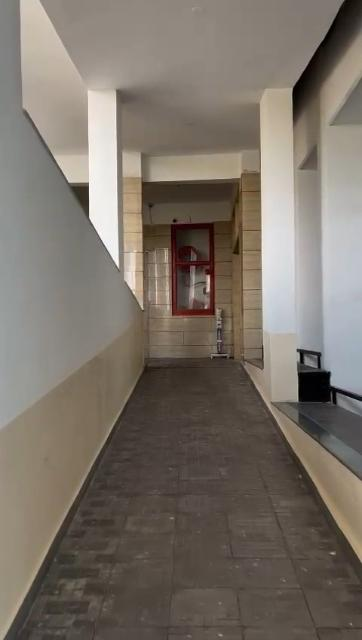floor: (13, 355, 362, 640)
wall: (0, 0, 152, 640), (310, 67, 362, 363), (252, 92, 302, 376), (144, 202, 166, 356), (212, 189, 232, 303), (168, 318, 212, 354)
